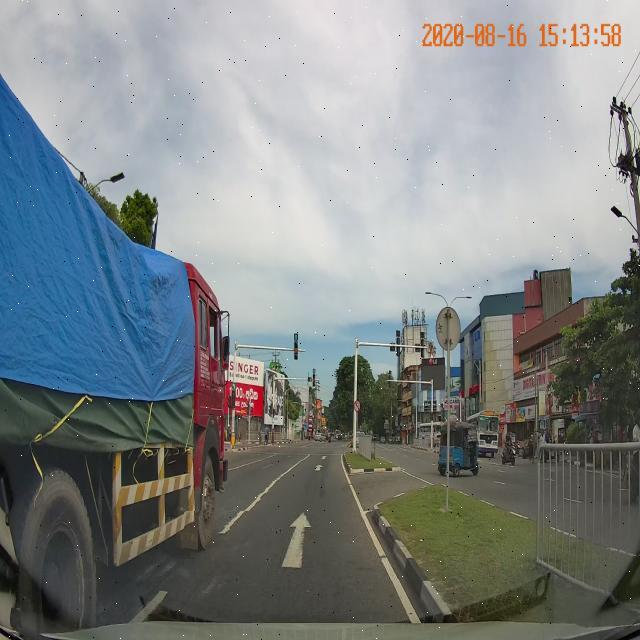forward: (184, 512, 398, 581)
